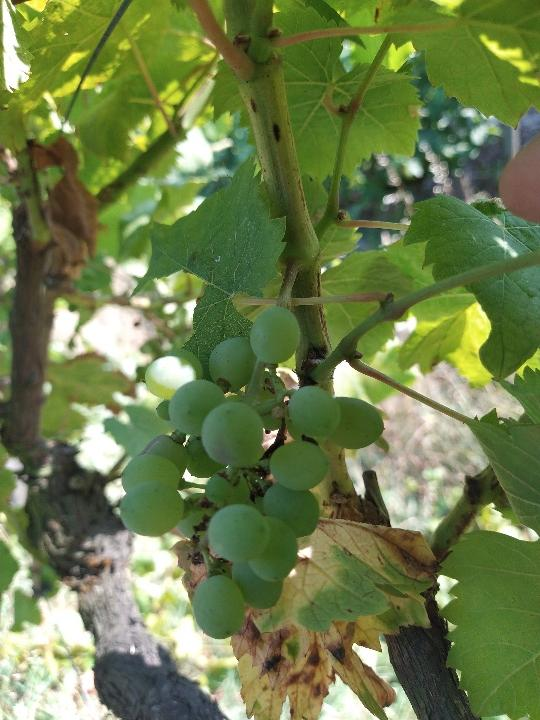grape: (116, 299, 386, 644)
